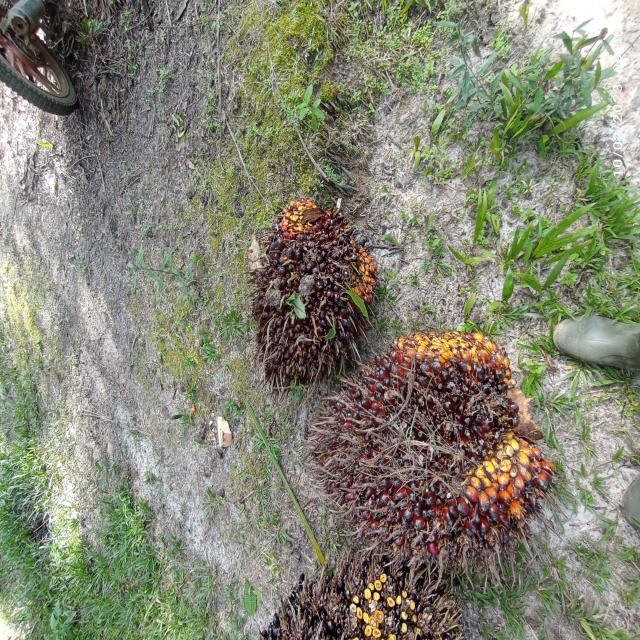fraksi 00: (216, 183, 394, 383)
fraksi 1: (302, 334, 621, 578)
